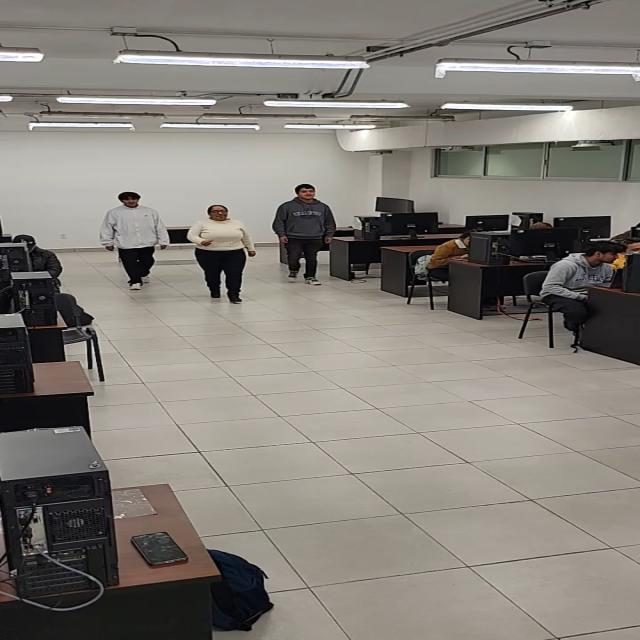Persona: (98, 187, 172, 291), (187, 199, 256, 309), (271, 179, 338, 288)
